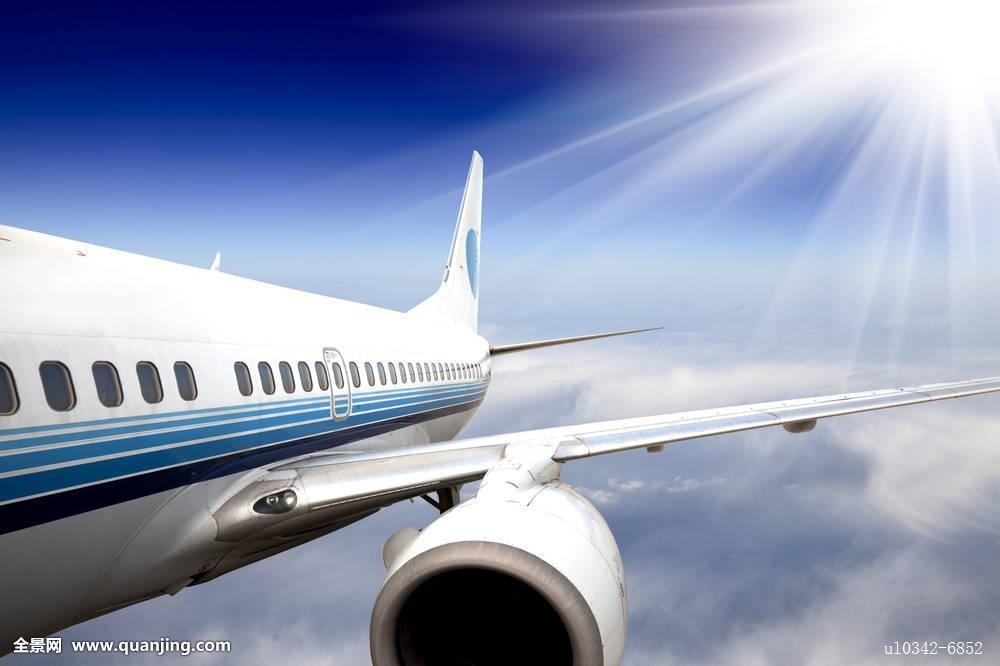airplane: (2, 217, 1000, 655)
